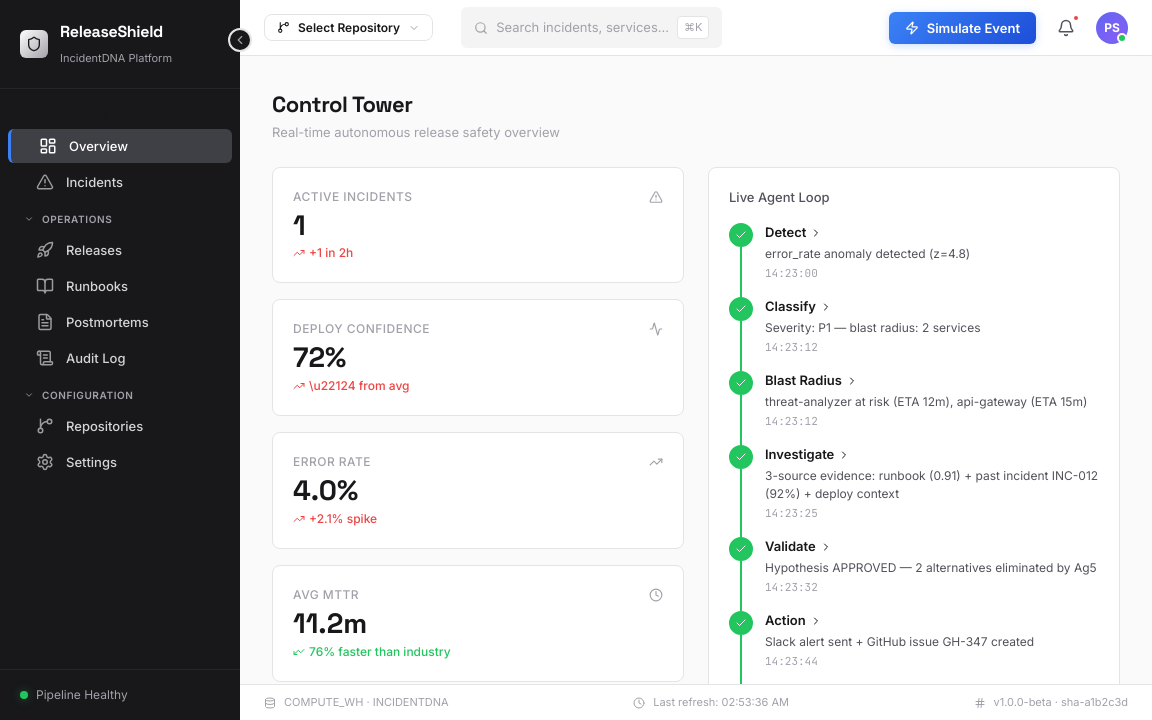
Test case: Integration — App Routing › navigates back to Overview
This screenshot has width=1152, height=720.
Go to incidents first
Click the button with id "nav-incidents" at (120, 182), box 8,165 -> 232,199
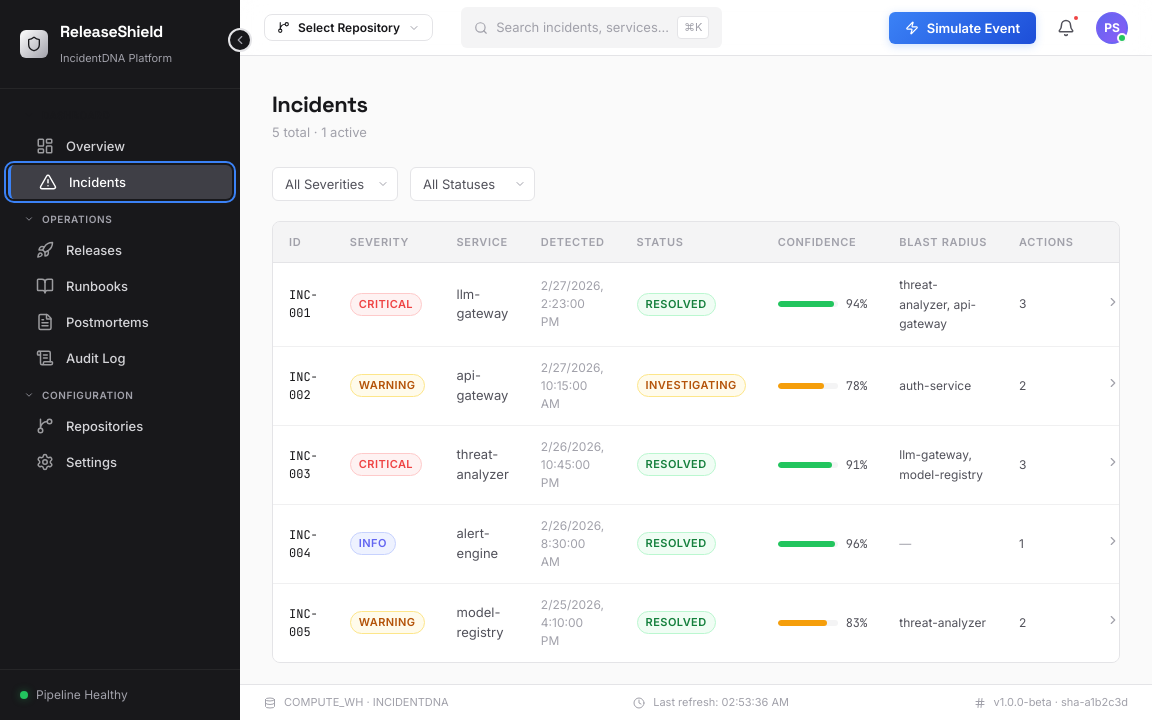
Now the table with id "incidents-table" is shown, box 273,222 -> 1120,662
Go back to overview
Click the button with id "nav-overview" at (120, 146), box 8,129 -> 232,163
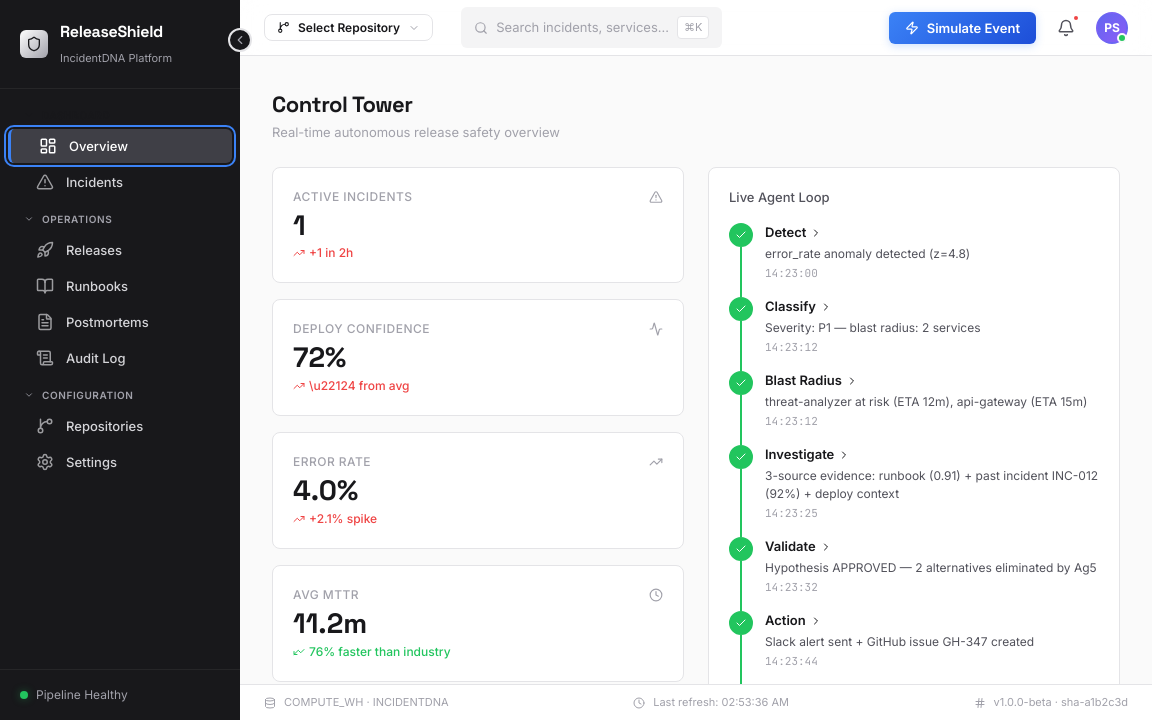
Now the heading "Control Tower" is shown, box 272,90 -> 413,118
